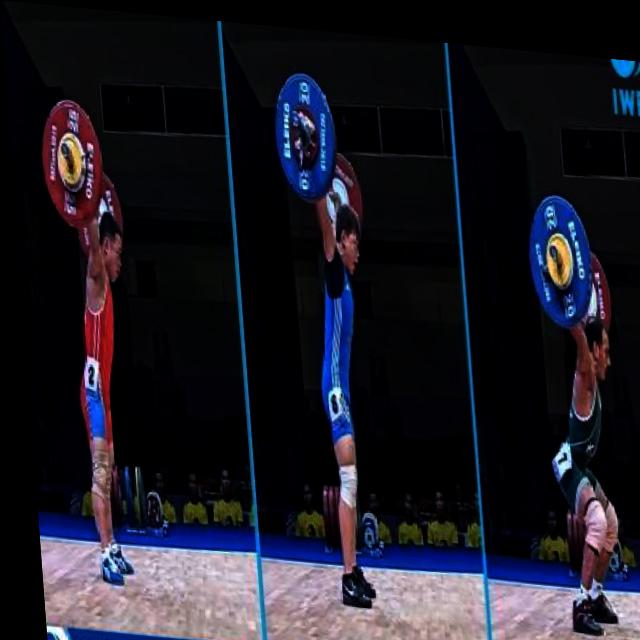barbell: (514, 176, 602, 323), (261, 61, 344, 203), (33, 92, 105, 228)
